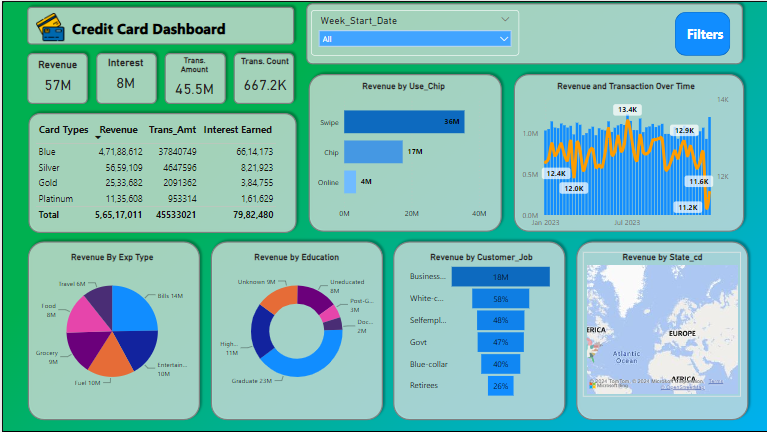

Layout of this report page (visuals, bound fields, positions):
{"tool":"powerbi","page":{"name":"Credit Card","canvas":[1280,720],"ordinal":0},"visuals":[{"type":"image","box":[50,15.5,61.8,57.3],"z":0,"group":"g1"},{"type":"shape","box":[1121.8,18.2,92.1,72.9],"z":0,"group":"g2"},{"type":"card","title":"Revenue","fields":{"Values":["Sum(ccdb cc_detail.Revenue)"]},"box":[50,95.5,85.5,70],"z":0},{"type":"textbox","box":[111.8,24.6,384.5,59.1],"z":1000,"group":"g1"},{"type":"textbox","box":[1127.6,35.2,86.4,40],"z":1000,"group":"g2"},{"type":"card","title":"Interest","fields":{"Values":["Sum(ccdb cc_detail.Interest_Earned)"]},"box":[161.8,91.8,89.1,70],"z":1000},{"type":"card","title":"Trans. Amount","fields":{"Values":["Sum(ccdb cc_detail.Total_Trans_Amt)"]},"box":[275,91.7,91.7,76.7],"z":2000},{"type":"card","title":"Trans. Count","fields":{"Values":["Sum(ccdb cc_detail.Total_Trans_Ct)"]},"box":[393.1,91.5,90,77.7],"z":3000},{"type":"tableEx","fields":{"Values":["ccdb cc_detail.Card_Category","Sum(ccdb cc_detail.Revenue)","Sum(ccdb cc_detail.Total_Trans_Amt)","Sum(ccdb cc_detail.Interest_Earned)"]},"box":[50,194.3,432.9,191.4],"z":4000},{"type":"lineClusteredColumnComboChart","title":"Revenue and Transaction Over Time","fields":{"Y":["Sum(ccdb cc_detail.Revenue)"],"Y2":["Sum(ccdb cc_detail.Total_Trans_Ct)"],"Category":["ccdb cc_detail.Week_Start_Date.Variation.Date Hierarchy.Year"]},"box":[861.7,133.3,356.7,253.3],"z":5000},{"type":"pieChart","title":"Revenue By Exp Type","fields":{"Category":["ccdb cc_detail.Exp_Type"],"Y":["Sum(ccdb cc_detail.Revenue)"]},"box":[50,419.1,267.3,248.2],"z":6000},{"type":"donutChart","title":"Revenue by Education","fields":{"Category":["ccdb cust_detail.Education_Level"],"Y":["Sum(ccdb cc_detail.Revenue)"]},"box":[356.4,418.2,269.1,248.2],"z":7000},{"type":"funnel","title":"Revenue by Customer_Job","fields":{"Category":["ccdb cust_detail.Customer_Job"],"Y":["Sum(ccdb cc_detail.Revenue)"]},"box":[675,418,248,248],"z":8000},{"type":"clusteredBarChart","title":"Revenue by Use_Chip","fields":{"Y":["Sum(ccdb cc_detail.Revenue)"],"Category":["ccdb cc_detail.Use_Chip"]},"box":[518.3,133.3,301.7,238.3],"z":9000},{"type":"slicer","fields":{"Values":["ccdb cc_detail.Week_Start_Date"]},"box":[514.3,15.7,347.1,75.7],"z":10000},{"type":"filledMap","title":"Revenue by State_cd ","fields":{"Category":["ccdb cust_detail.State_cd"],"Series":["ccdb cust_detail.State_cd"]},"box":[969,419,263,241],"z":11000},{"type":"group","id":"g1","title":"Group 2","box":[50,15.5,446.4,68.2],"z":12000},{"type":"group","id":"g2","title":"Filter Button","box":[1121.8,18.2,92.3,72.9],"z":14000}]}

Visuals, with their boxes in screenshot pixels (x1, y1, x2, y2), scaled from the page's 1280x720 canvas onto the 767x432 screenshot:
image: detection(30, 9, 67, 44)
shape: detection(672, 11, 727, 55)
"Revenue" card: detection(30, 57, 81, 99)
textbox: detection(67, 15, 297, 50)
textbox: detection(676, 21, 727, 45)
"Interest" card: detection(97, 55, 150, 97)
"Trans. Amount" card: detection(165, 55, 220, 101)
"Trans. Count" card: detection(236, 55, 289, 102)
tableEx - ccdb cc_detail.Card_Category x Sum(ccdb cc_detail.Revenue): detection(30, 117, 289, 231)
"Revenue and Transaction Over Time" lineClusteredColumnComboChart: detection(516, 80, 730, 232)
"Revenue By Exp Type" pieChart: detection(30, 251, 190, 400)
"Revenue by Education" donutChart: detection(214, 251, 375, 400)
"Revenue by Customer_Job" funnel: detection(404, 251, 553, 400)
"Revenue by Use_Chip" clusteredBarChart: detection(311, 80, 491, 223)
slicer - ccdb cc_detail.Week_Start_Date: detection(308, 9, 516, 55)
"Revenue by State_cd " filledMap: detection(581, 251, 738, 396)
"Group 2" group: detection(30, 9, 297, 50)
"Filter Button" group: detection(672, 11, 728, 55)
